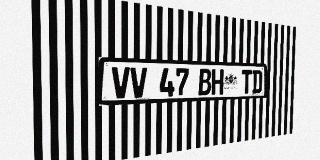4: (160, 68, 175, 97)
7: (175, 68, 189, 96)
B: (198, 69, 211, 95)
D: (252, 70, 262, 93)
H: (211, 69, 224, 95)
T: (241, 70, 252, 94)
V: (112, 67, 130, 99), (130, 67, 147, 98)
